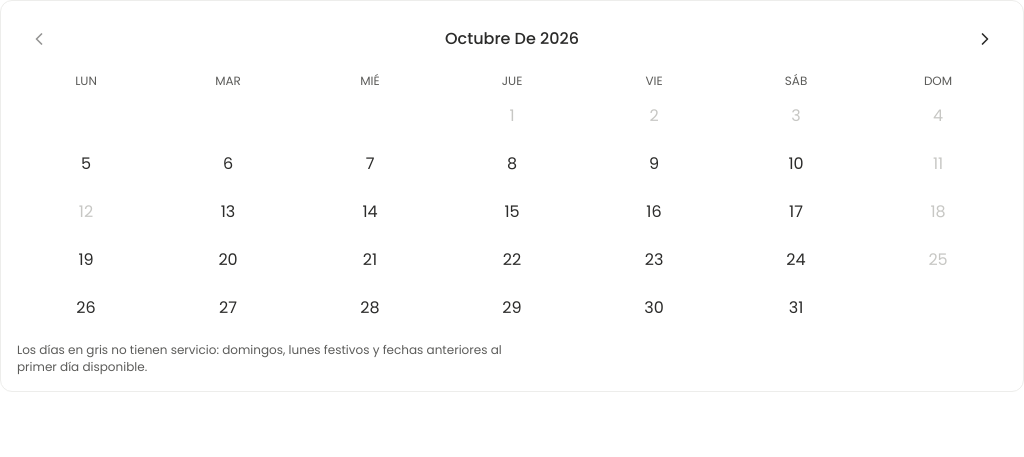
Test: CalendarioMes › navega al mes siguiente y vuelve; no deja ir antes del mes del primer dia disponible
Expected: the button named "Mes anterior" is disabled, [17,17,61,61]
What coordinates should you click on to do the following:
click the button named "Mes siguiente"
I would click on:
 (985, 39)
Its box is [963,17,1007,61].
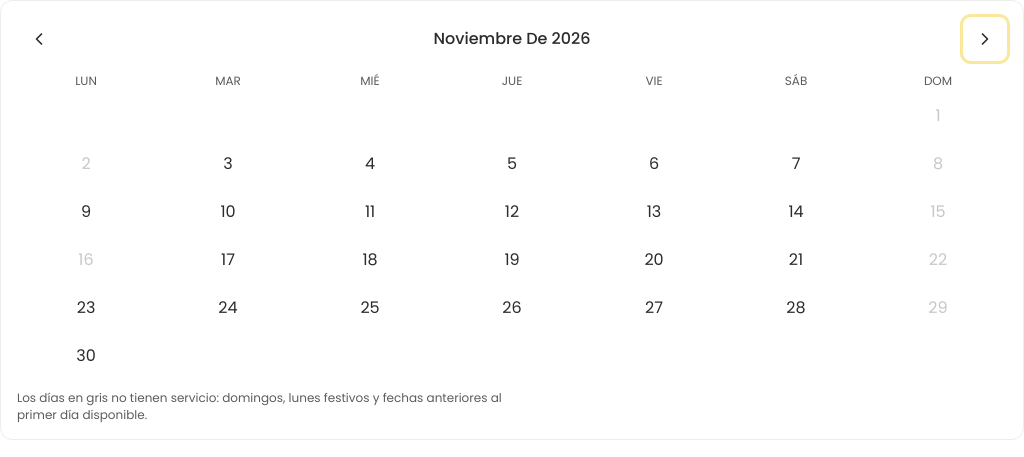
Result: the text "noviembre de 2026" is shown at [434,26,591,52]
Result: the button named "martes, 3 de noviembre" is enabled at [159,142,297,186]
What coordinates should you click on to do the following:
click the button named "Mes anterior"
I would click on:
 (39, 39)
Its box is [17,17,61,61].
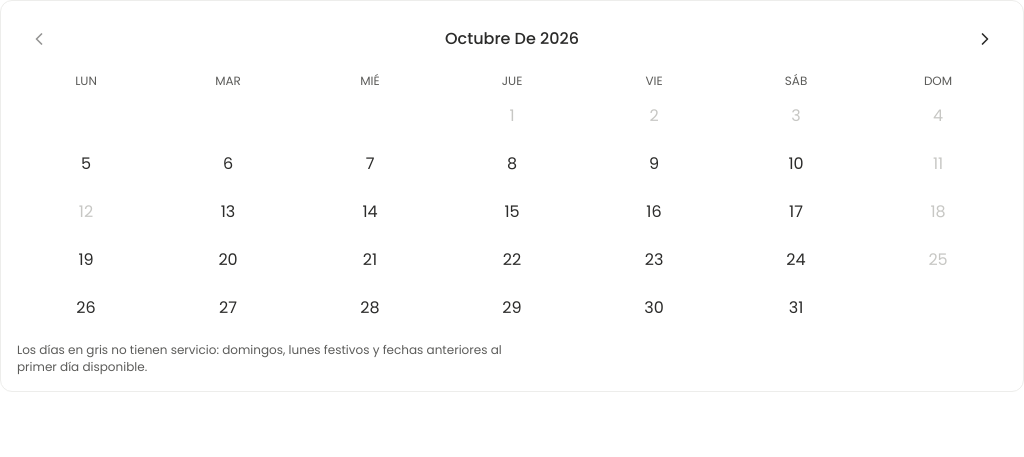
Result: the text "octubre de 2026" is shown at [445,26,579,52]
